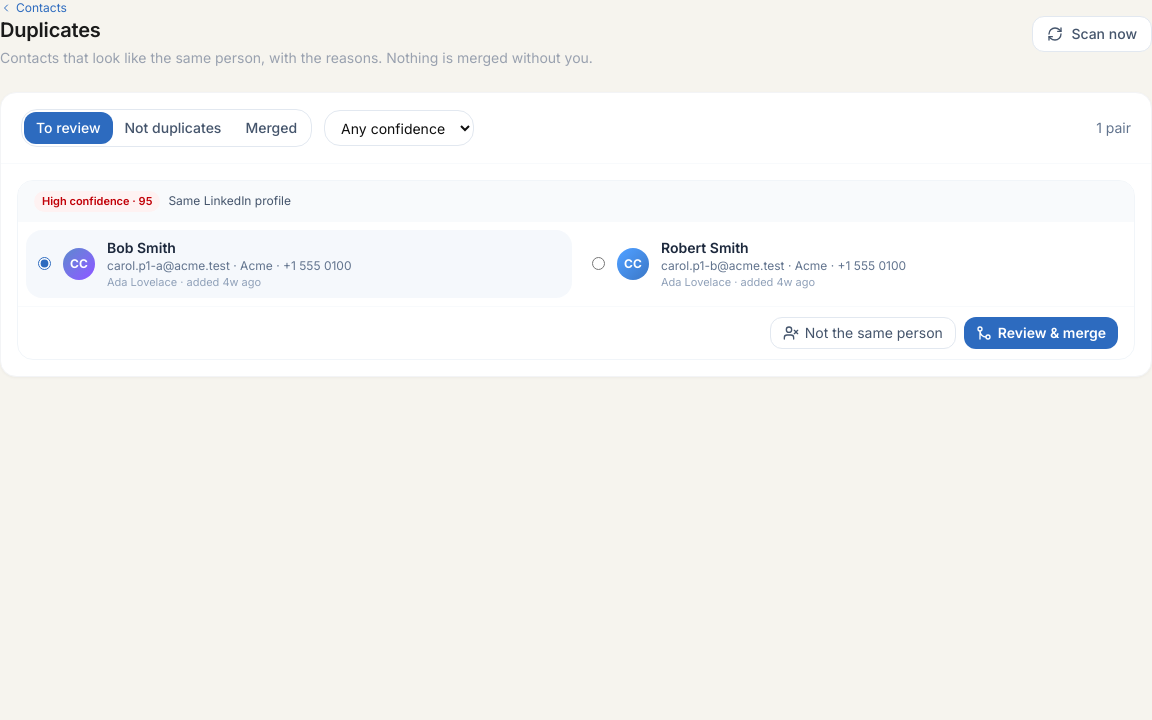
Scenario: Duplicates page › previews and merges, keeping the chosen record
Expected: the text "Same LinkedIn profile" is shown, [168,193,291,209]
Step 1. Click the button "Review & merge" → (1041, 333), box [964,317,1118,349]
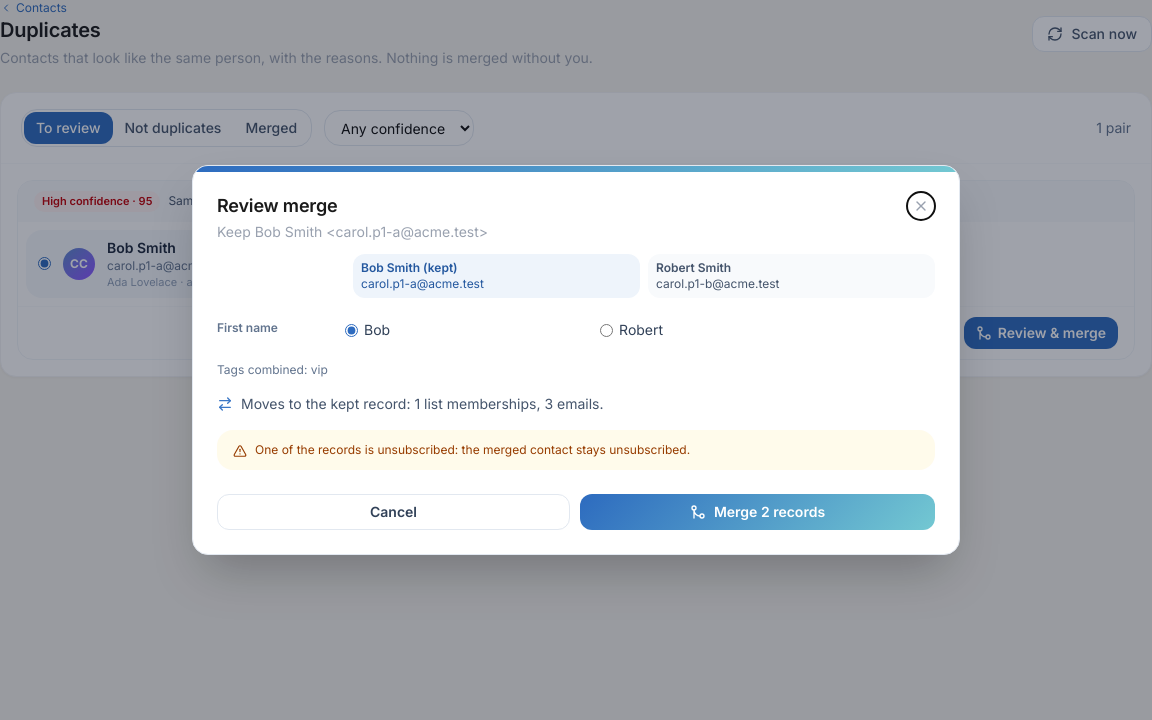
Result: the text "Moves to the kept record: 1 list memberships, 3 emails." is shown at [241,394,604,414]
Result: the list item "stays unsubscribed" is shown at [255,442,690,457]
Step 2. Click the radio button with aria-label "First name: Robert" → (607, 330), box [600,324,613,337]
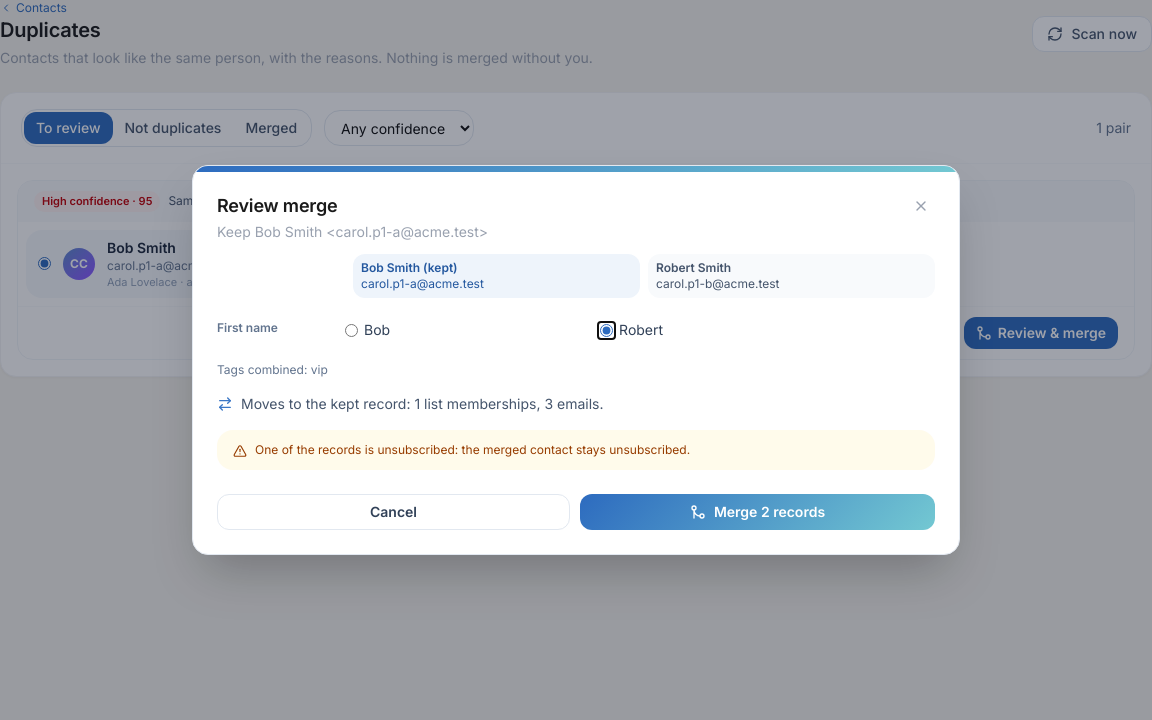
Step 3. Click the button "Merge 2 records" → (758, 512), box [580,494,935,530]
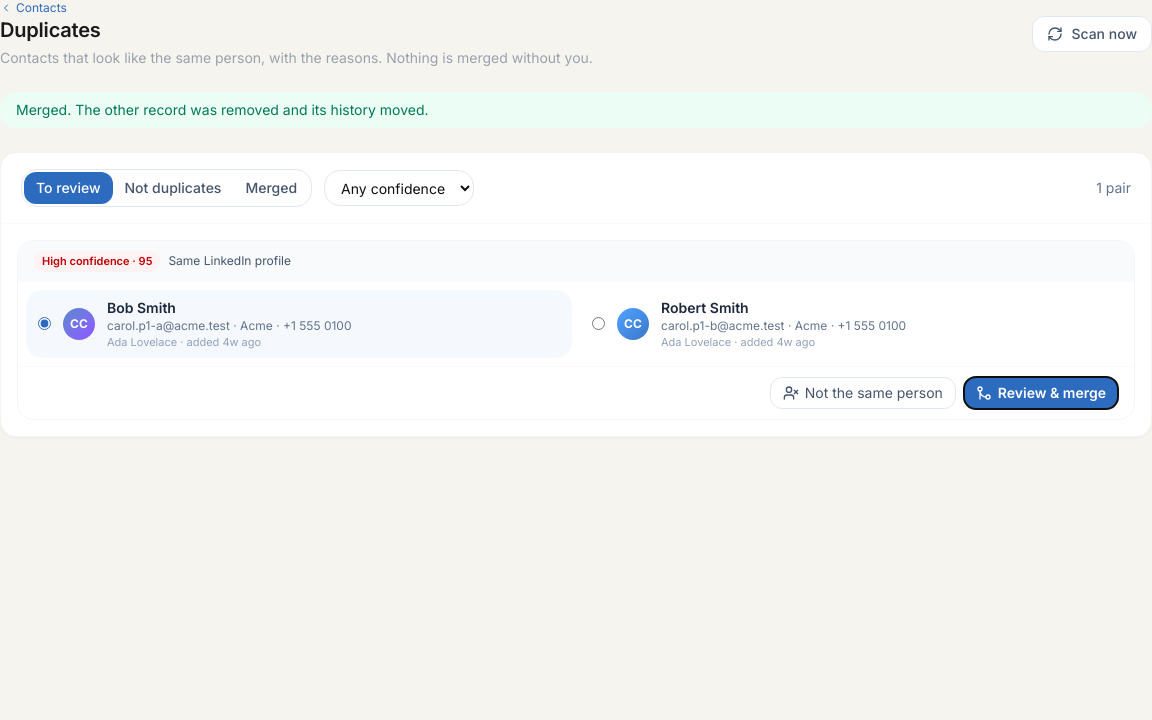
Result: the text "Merged. The other record was removed and its history moved." is shown at [0,92,1151,128]
